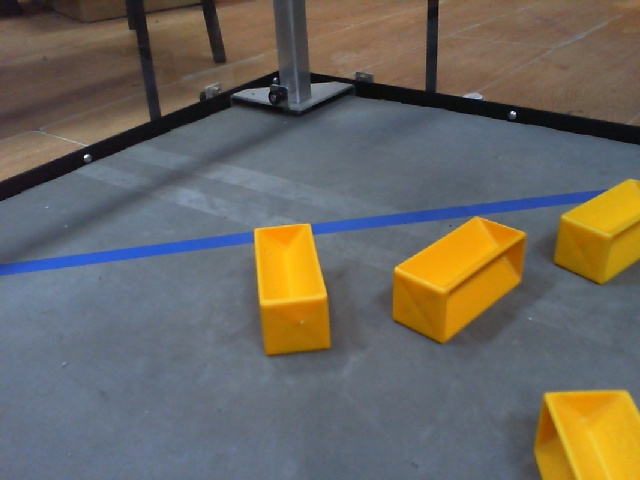YellowSample: (388, 212, 532, 346), (250, 220, 335, 354), (526, 381, 640, 480), (550, 172, 640, 290)
